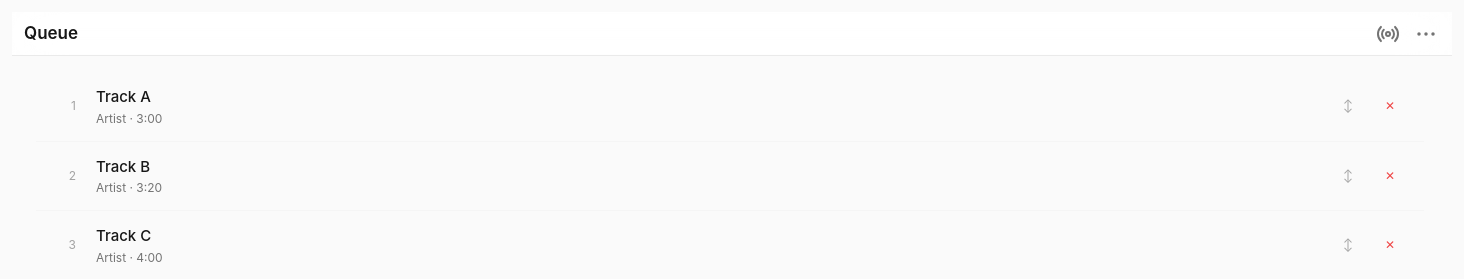
Scenario: QueueView › clear queue button › first click changes button text to the confirmation label and keeps the menu open
The image size is (1464, 279).
Click the button with test id "queue-menu".
click(1426, 34)  # box [1408,16,1444,52]
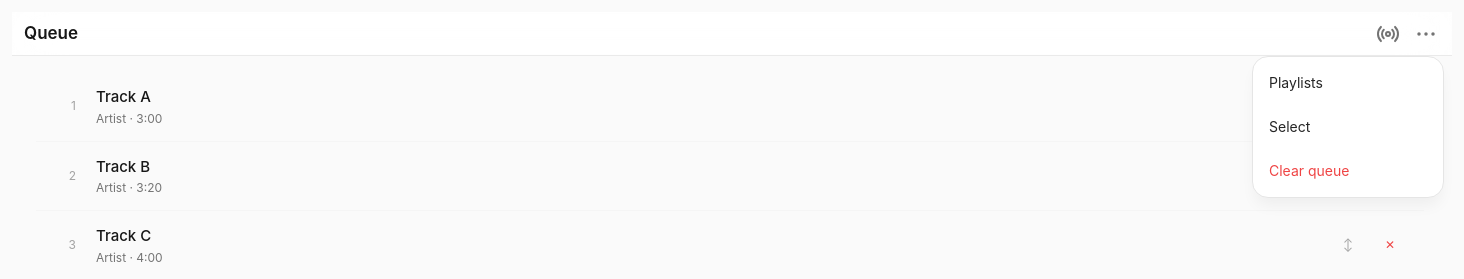
Check: the menu item with test id "queue-clear-button" reads "Clear queue"
Click the menu item with test id "queue-clear-button".
click(1348, 170)  # box [1257,148,1439,192]
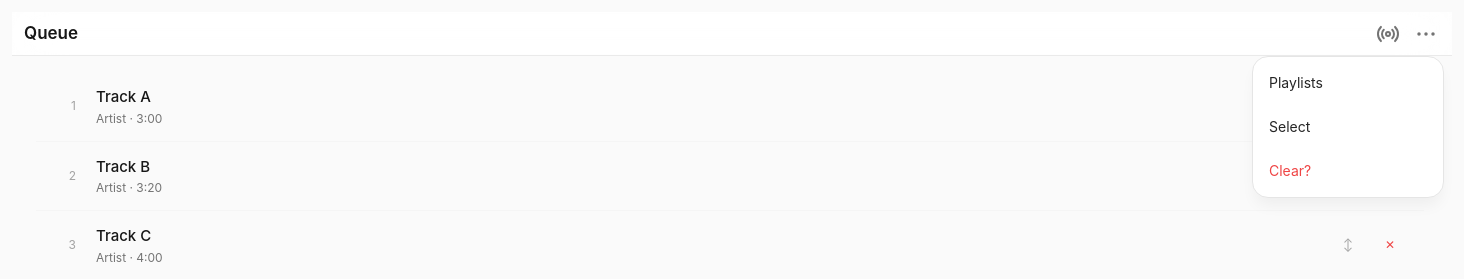
Check: the menu with test id "queue-menu-panel" is shown, box [1252,56,1444,198]
Check: the menu item with test id "queue-clear-button" reads "Clear?", box [1257,148,1439,192]
